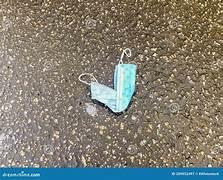Mask: (84, 49, 136, 112)
